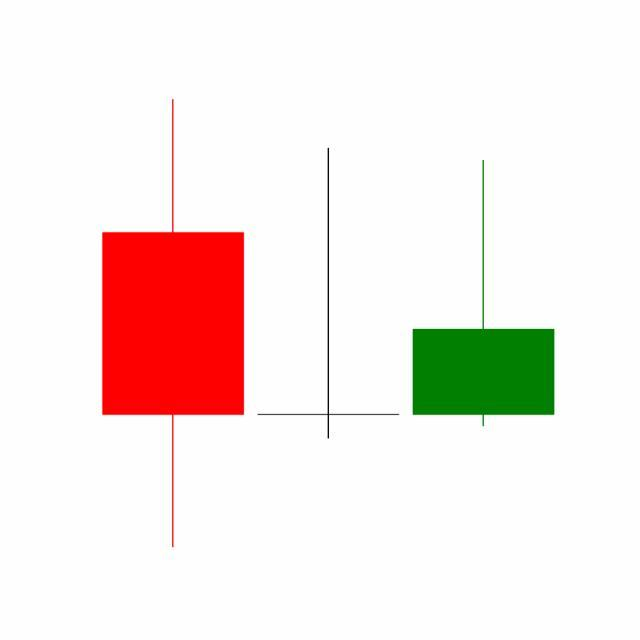Spinning Top: (250, 144, 407, 442)
